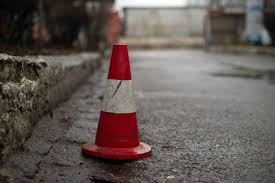cone: (81, 40, 148, 163)
